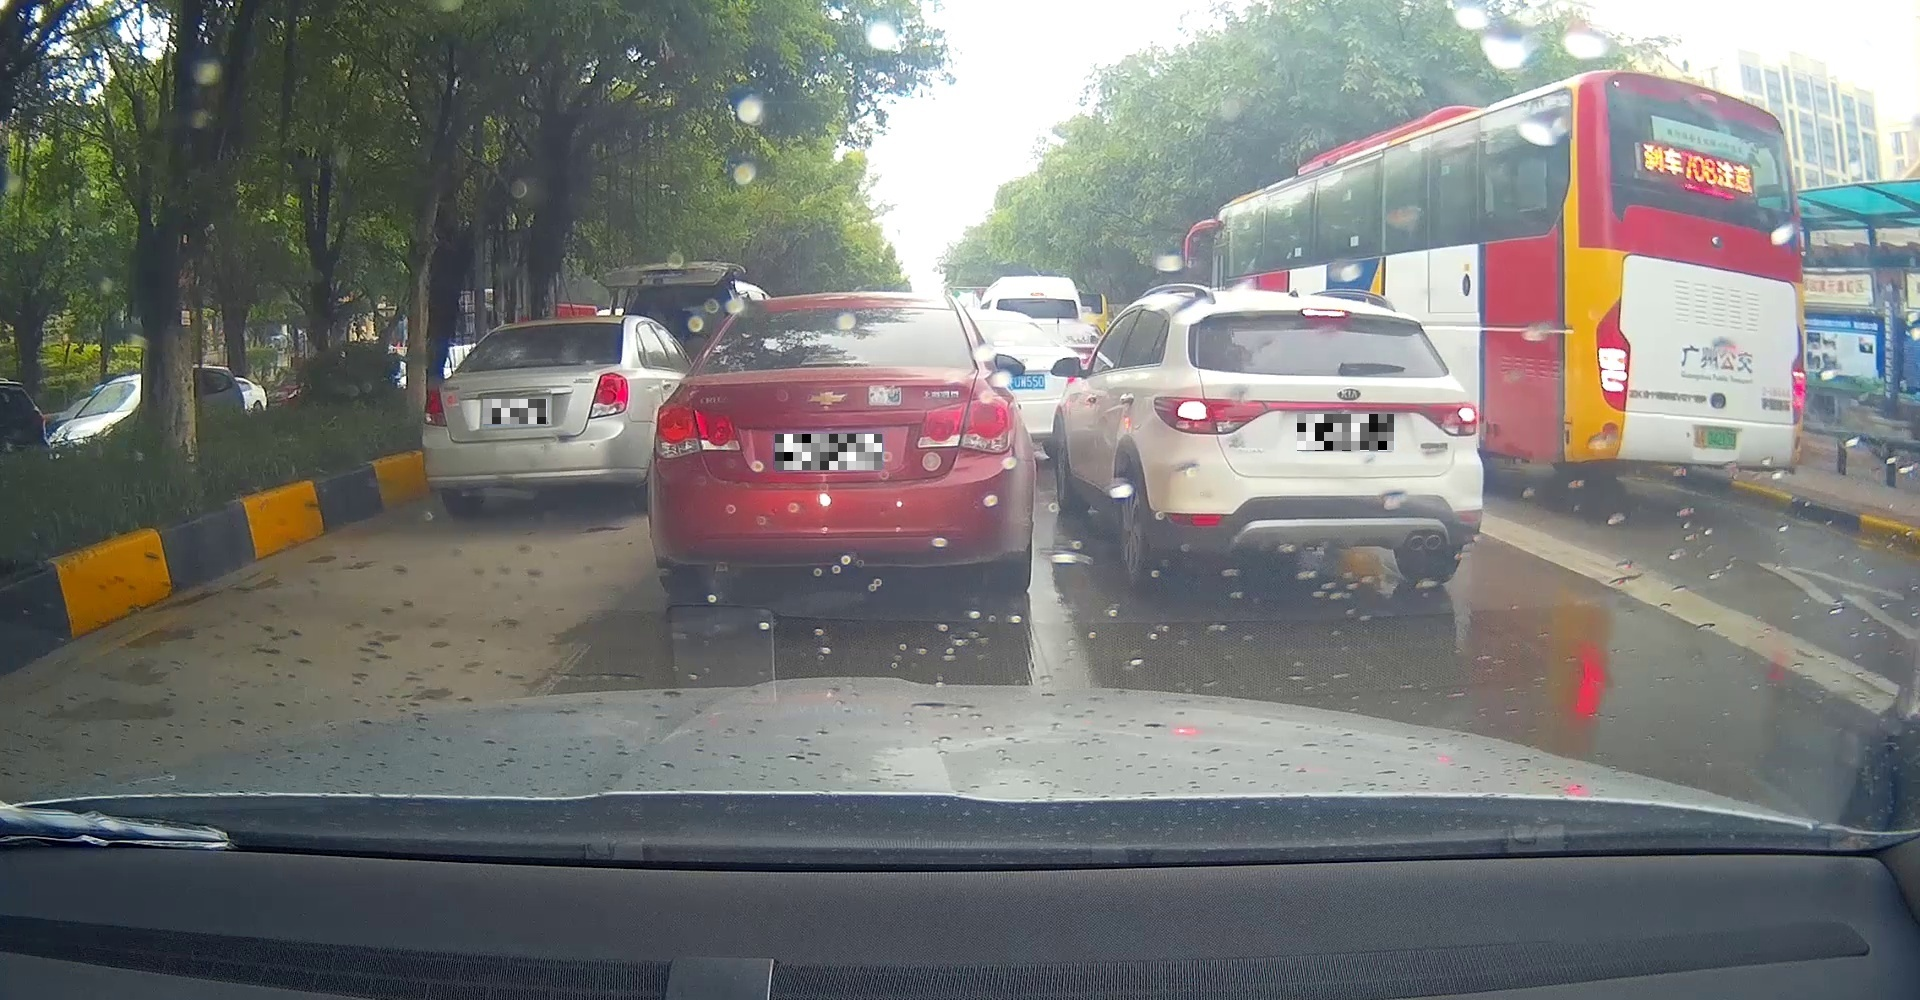L_light: (653, 400, 742, 459), (1153, 396, 1269, 435), (1596, 296, 1630, 412)
R_light: (916, 395, 1018, 454), (1420, 401, 1478, 437), (587, 372, 629, 419), (1790, 324, 1806, 426), (1683, 181, 1735, 201)
T_light: (423, 385, 448, 426), (800, 355, 869, 365), (1302, 308, 1349, 319), (513, 358, 555, 368)
day-brake: (1144, 291, 1484, 595), (1576, 69, 1806, 478)
day-no: (648, 292, 1035, 596), (422, 315, 635, 516)
plate_1: (483, 398, 547, 424)
plate_2: (775, 434, 883, 470)
plate_3: (1297, 414, 1394, 451)
